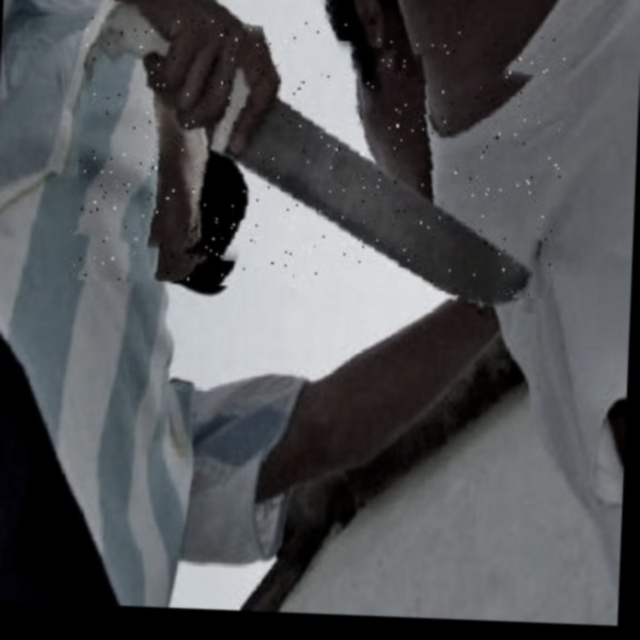Sharp-Object: (72, 13, 566, 299)
